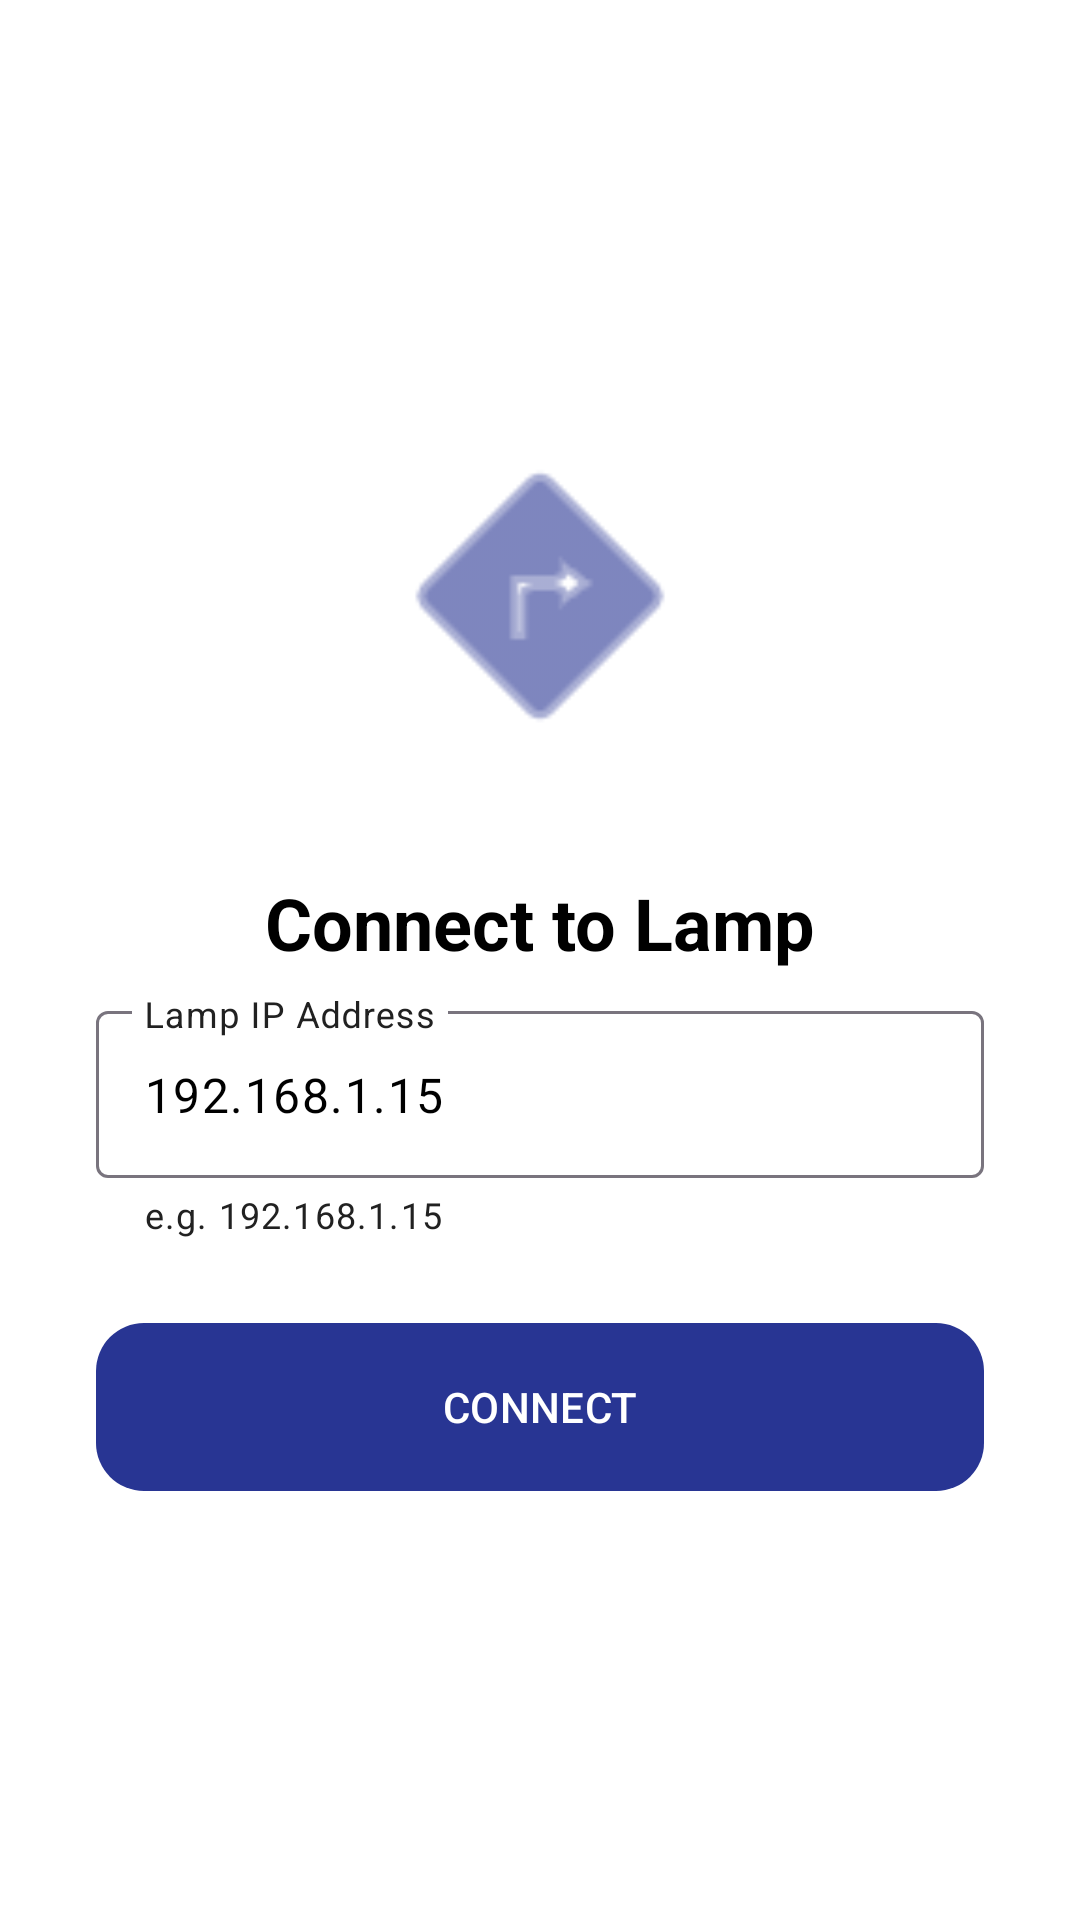

Point at icon controls on the screen. Image size 1080w x 1920h, points as (x=x, y=y).
directions: (x=540, y=596)
